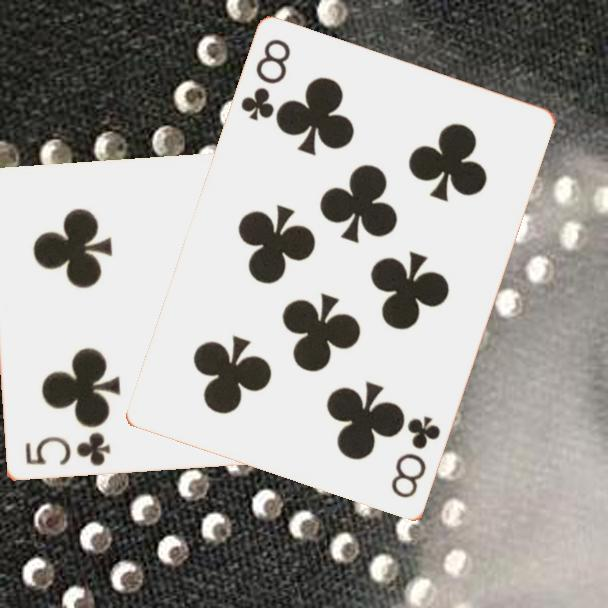c05: (21, 429, 113, 470)
c08: (237, 36, 294, 125), (388, 412, 444, 502)
